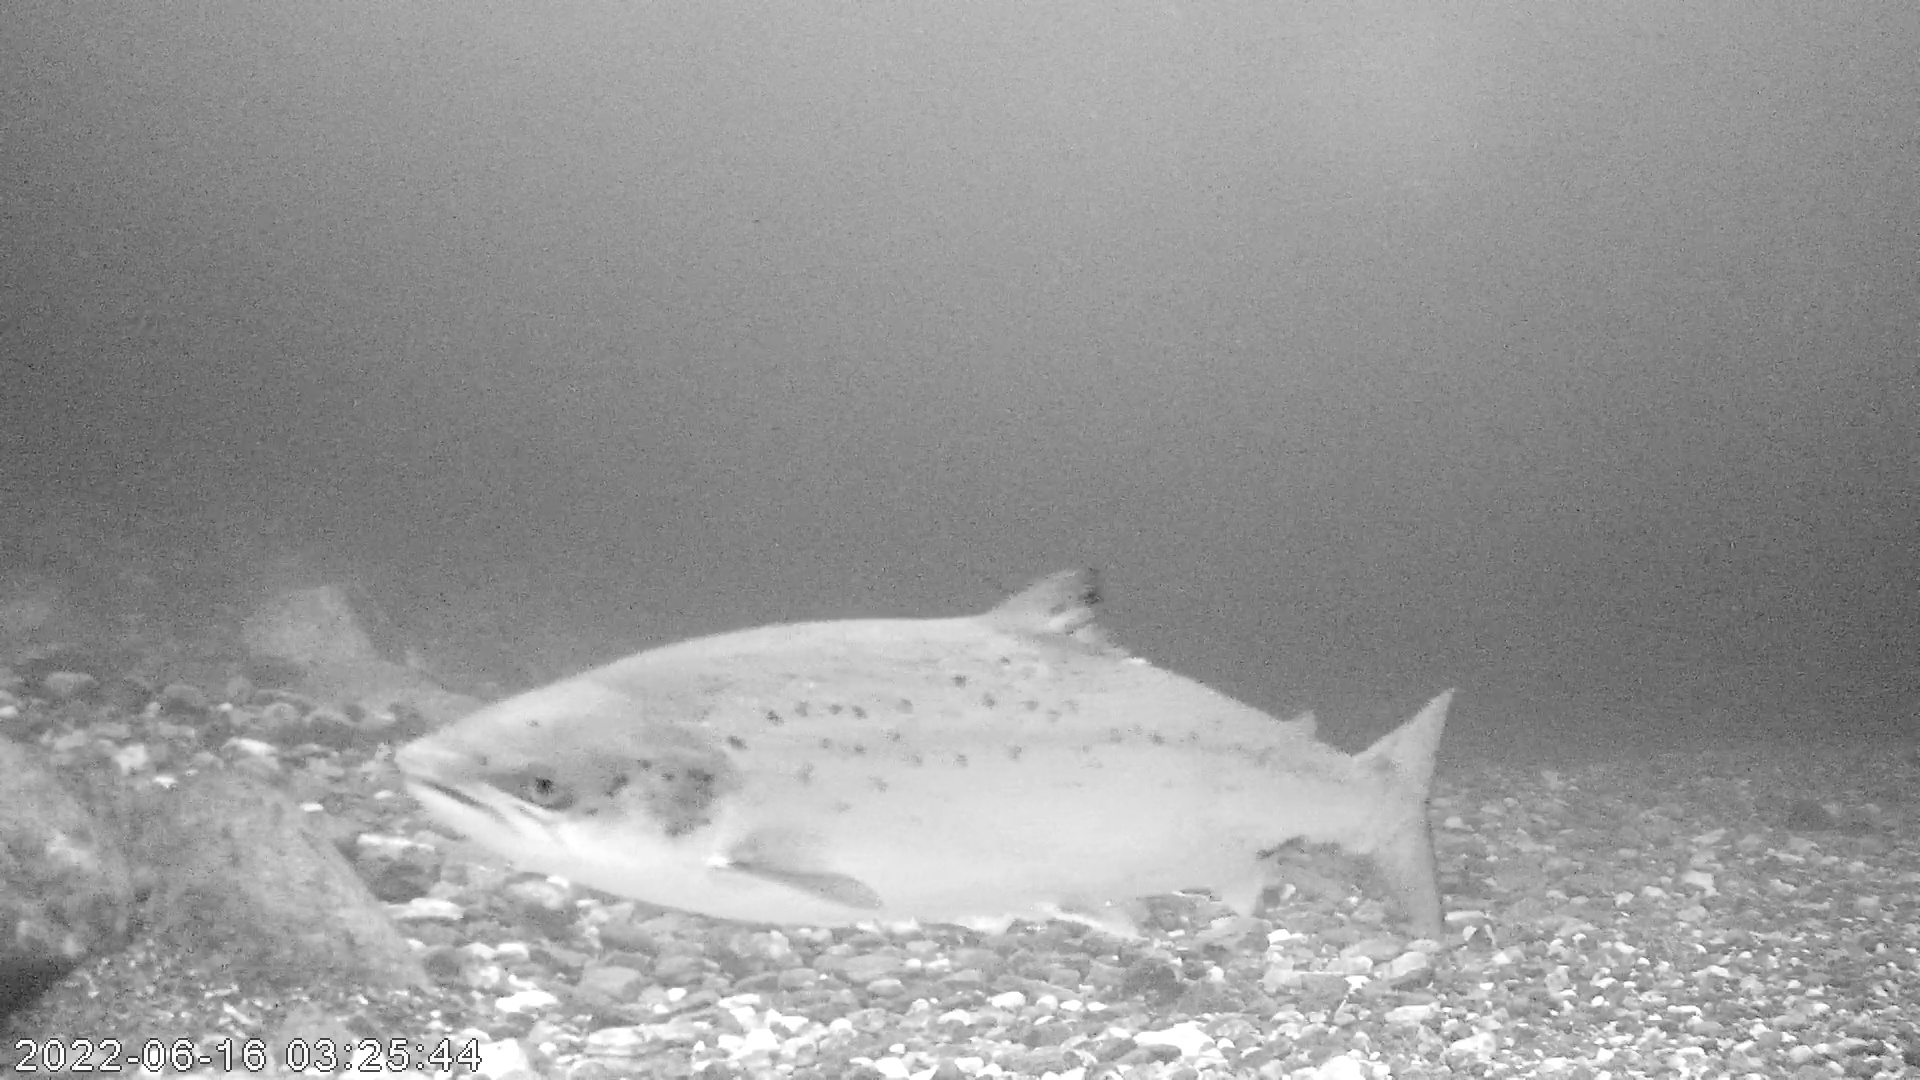salmon: (394, 564, 1457, 945)
